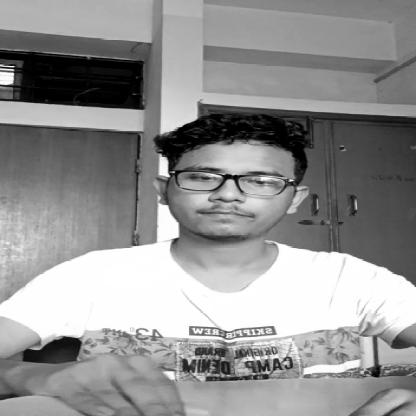Normal: (148, 127, 334, 236)
